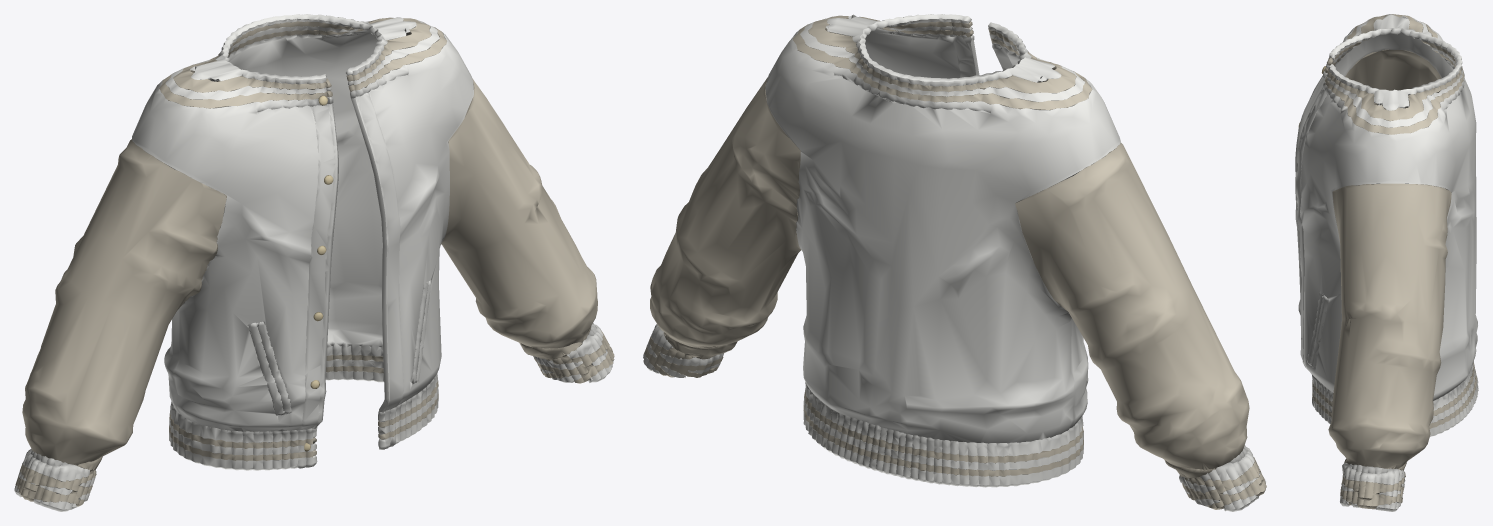
Rendered from 02_chaqueta_varsity_abierta.glb.
3 renders of one model, left to right at view 1: azimuth 30°, elevation 25°; view 2: azimuth 150°, elevation 25°; view 3: azimuth 270°, elevation 25°, orthographic. The views are drawn at different scales.
Parts seen in each view (by area): view 1: Chaqueta varsity (abierta); view 2: Chaqueta varsity (abierta); view 3: Chaqueta varsity (abierta).
Boxes of the visible parts, x1,y1,x2,y2 form: Chaqueta varsity (abierta): (14,14,614,511); Chaqueta varsity (abierta): (643,14,1266,511); Chaqueta varsity (abierta): (1295,14,1478,511).
Bounding box in the file's own units: 1.01 × 0.621 × 0.3103.
